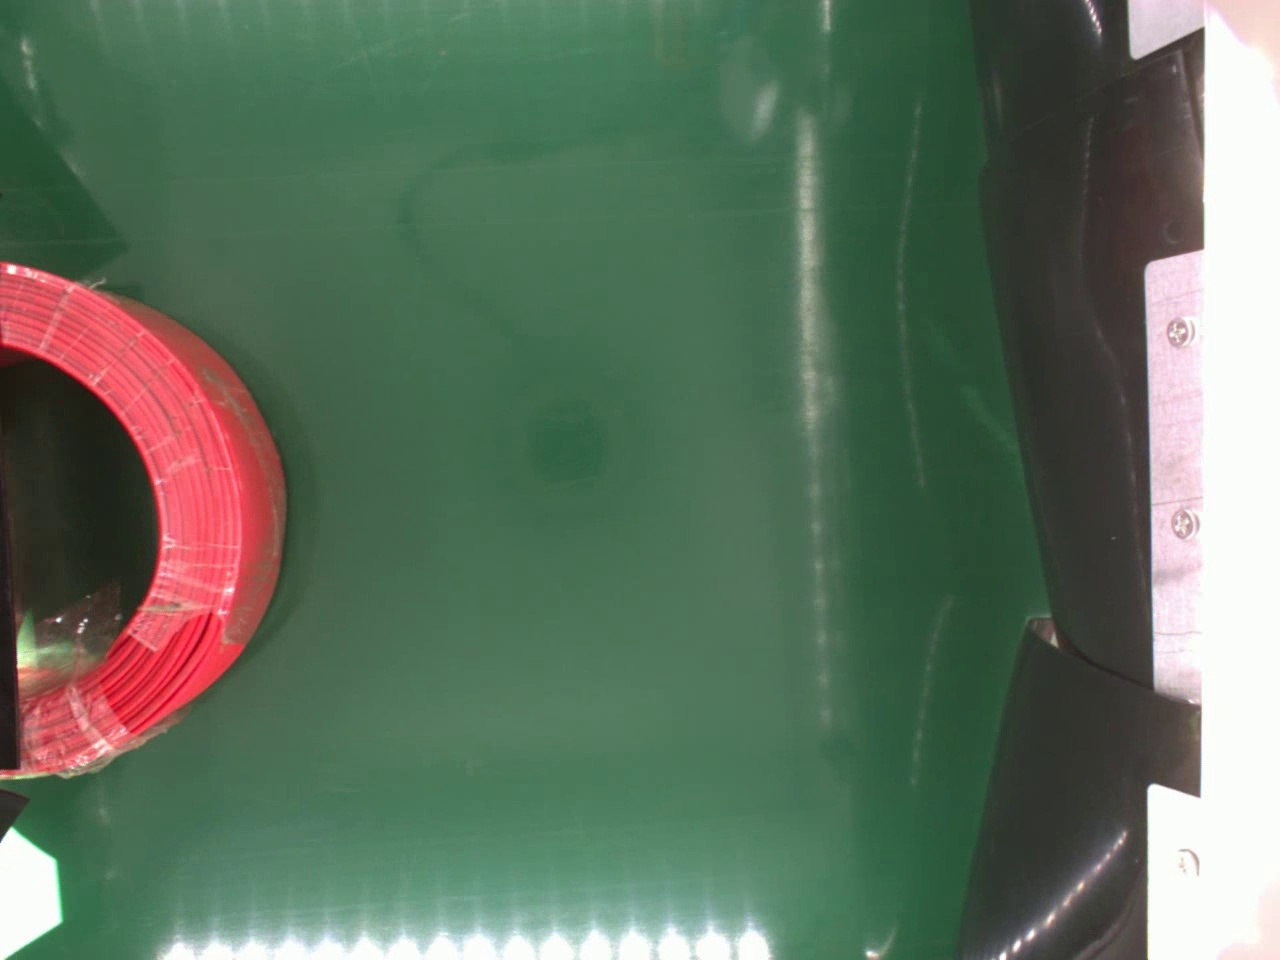red: (0, 262, 289, 785)
